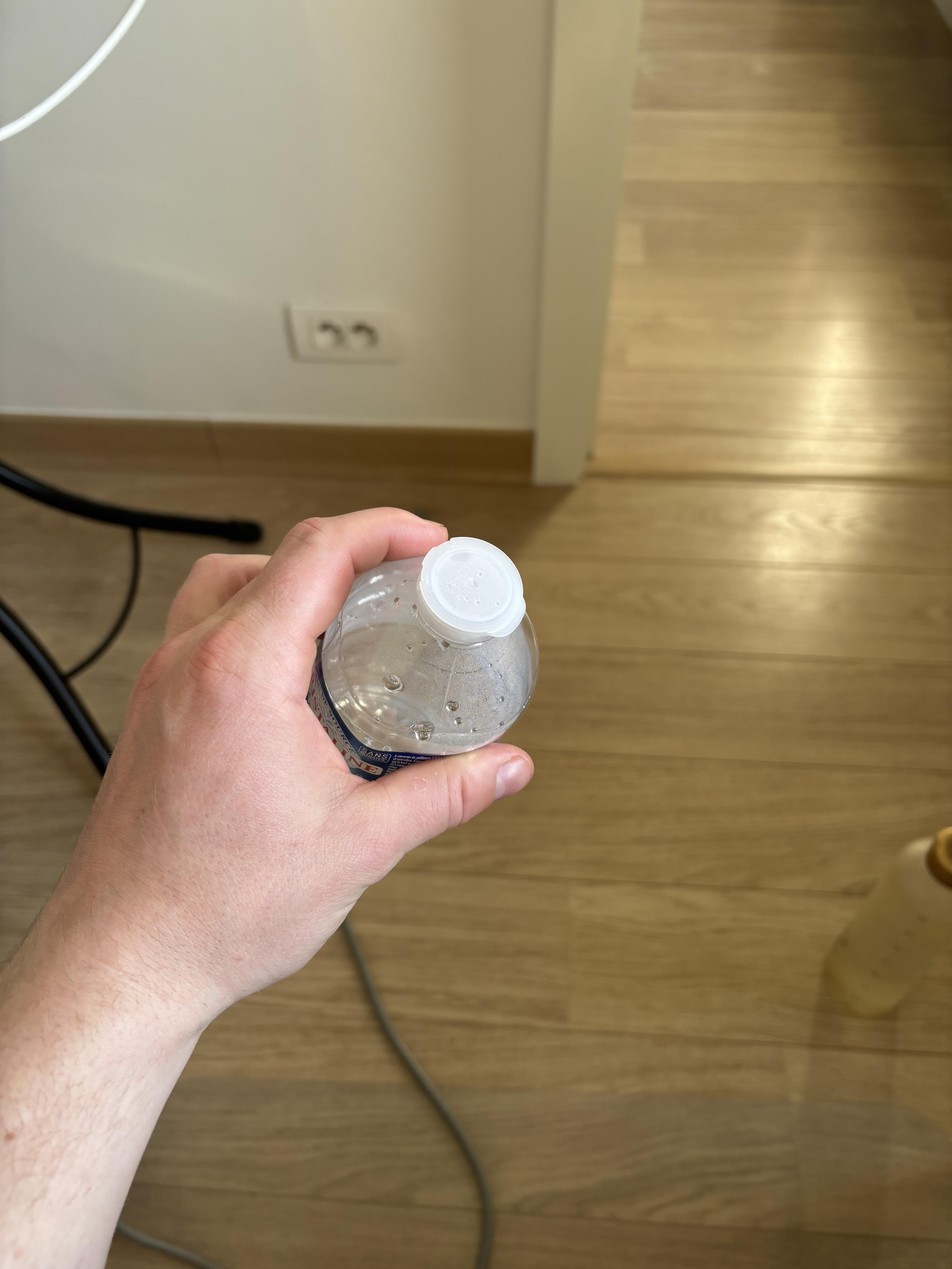Plastic: (307, 526, 535, 782), (824, 815, 950, 1022)
